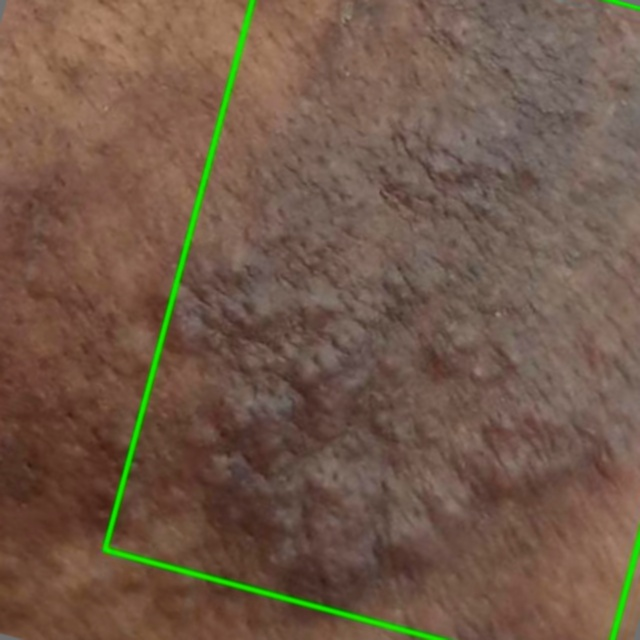Tinea Corporis: (105, 0, 639, 639)
